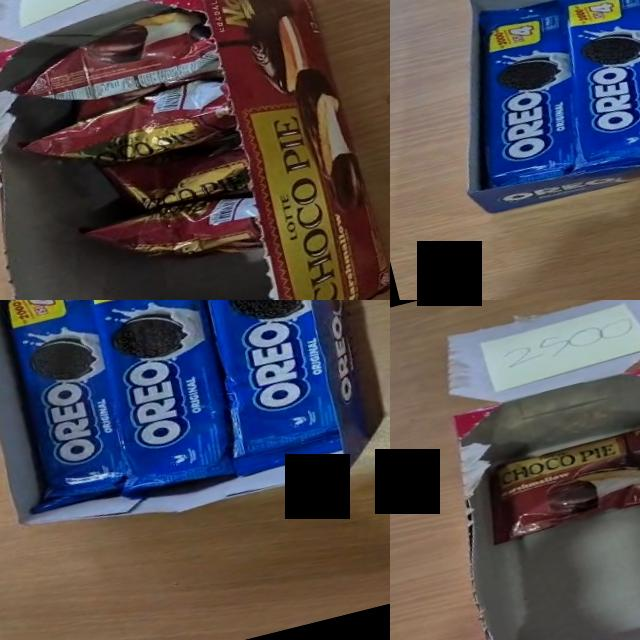Chocopie: (473, 416, 640, 545), (14, 8, 218, 100), (23, 81, 234, 164), (87, 197, 260, 255), (106, 143, 248, 210)
Oreo: (0, 300, 390, 553), (448, 0, 601, 194), (524, 0, 640, 180)
